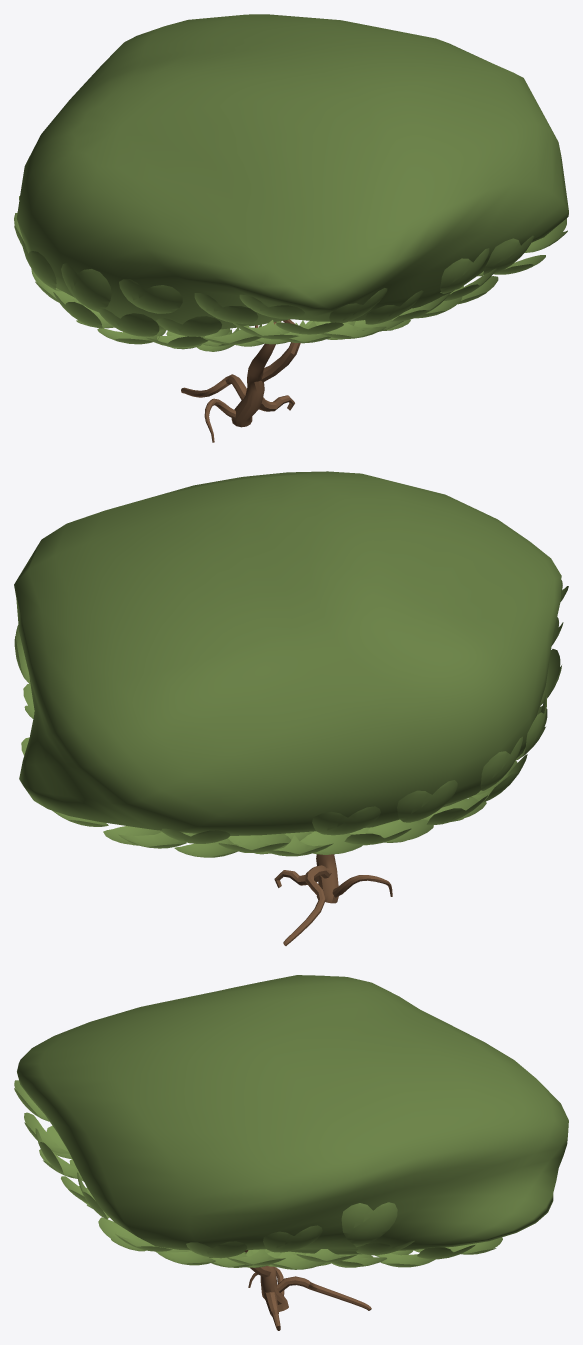
Rendered from BIG TREE 2.fbx.
3 views of the same model, one above another, from view 1: azimuth 30°, elevation 25°; view 2: azimuth 150°, elevation 25°; view 3: azimuth 270°, elevation 25° (orthographic). The views are drawn at different scales.
Parts seen in each view (by area): view 1: pPlane228; view 2: pPlane228; view 3: pPlane228.
Part boxes in pixels (<box>): pPlane228: <box>14,14,568,442</box>; pPlane228: <box>14,471,568,945</box>; pPlane228: <box>14,975,568,1330</box>.
Bounding box in the file's own units: 28.23 × 19.94 × 31.1.
